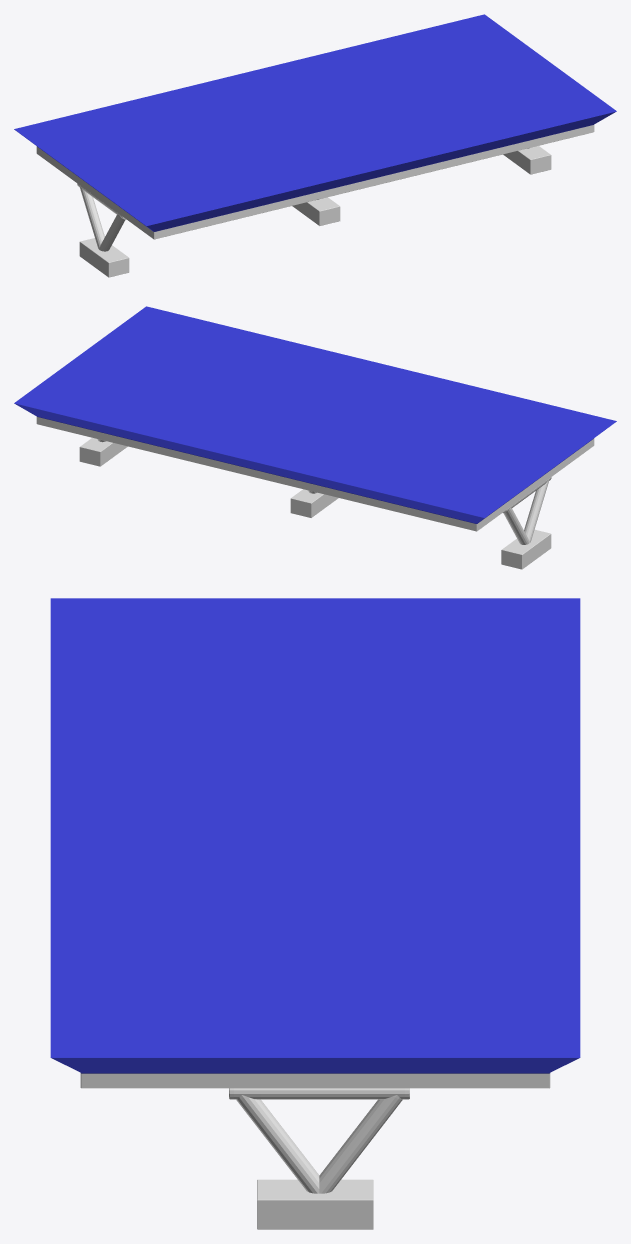
File: GateRoof.fbx
3 renders of one model, top to bottom at view 1: azimuth 30°, elevation 25°; view 2: azimuth 150°, elevation 25°; view 3: azimuth 270°, elevation 25°, orthographic. The views are drawn at different scales.
Parts seen in each view (by area): view 1: Roof; view 2: Roof; view 3: Roof.
Part boxes in pixels (x1=…): Roof: x1=14, y1=14, x2=616, y2=277; Roof: x1=14, y1=306, x2=616, y2=569; Roof: x1=50, y1=598, x2=580, y2=1229.
Bounding box in the file's own units: 3951 × 746 × 1926.
